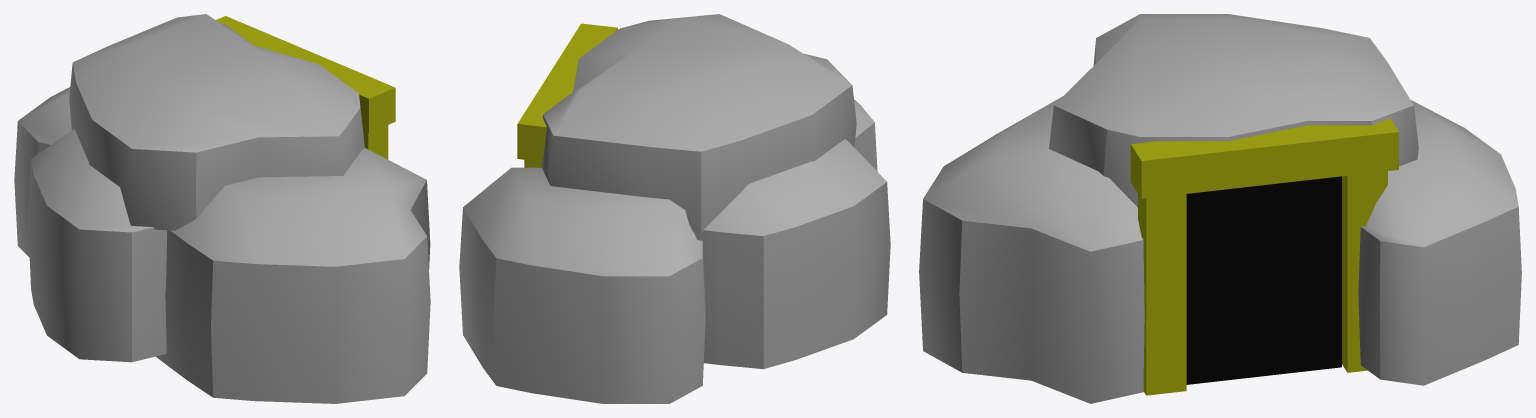
The model's file is MineEntrance_01.fbx.
3 renders of one model, left to right at view 1: azimuth 30°, elevation 25°; view 2: azimuth 150°, elevation 25°; view 3: azimuth 270°, elevation 25°, orthographic. The views are drawn at different scales.
Visible parts, largest first — view 1: pCube26; view 2: pCube26; view 3: pCube26.
Boxes of the visible parts, x1,y1,x2,y2 form: pCube26: (14,14,430,403); pCube26: (459,14,890,403); pCube26: (919,14,1521,403).
Size of the model in its own units: 358 by 524 by 258.
